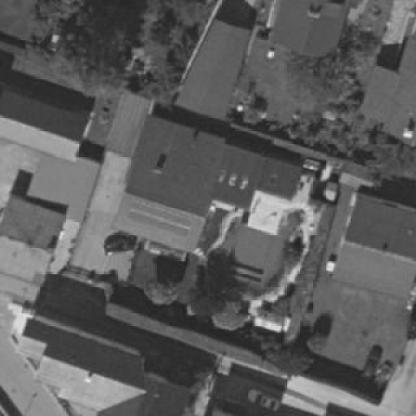solar-pv-panel: (128, 201, 193, 237)
